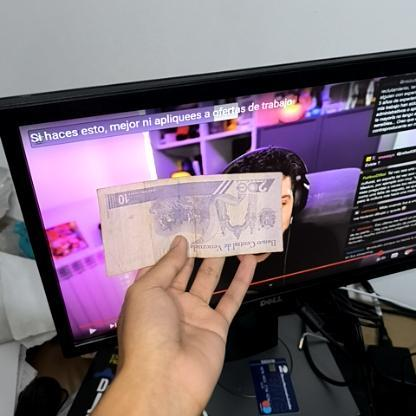ten-back-vef: (96, 172, 286, 276)
